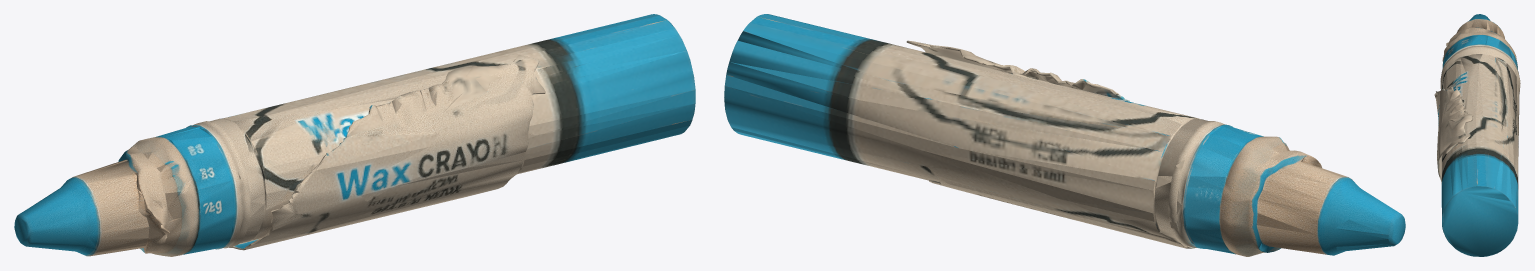
The model's file is Crayon.fbx.
The picture shows the model from 3 angles, left to right: view 1: azimuth 30°, elevation 25°; view 2: azimuth 150°, elevation 25°; view 3: azimuth 270°, elevation 25°; orthographic projection. The views are drawn at different scales.
Parts seen in each view (by area): view 1: Mesh_0; view 2: Mesh_0; view 3: Mesh_0.
Boxes of the visible parts, <box> form: Mesh_0: <box>14,14,695,256</box>; Mesh_0: <box>724,14,1405,256</box>; Mesh_0: <box>1434,14,1520,256</box>.
Size of the model in its own units: 190 by 36.51 by 34.89.
Materials: 1 (1 with a texture image).
